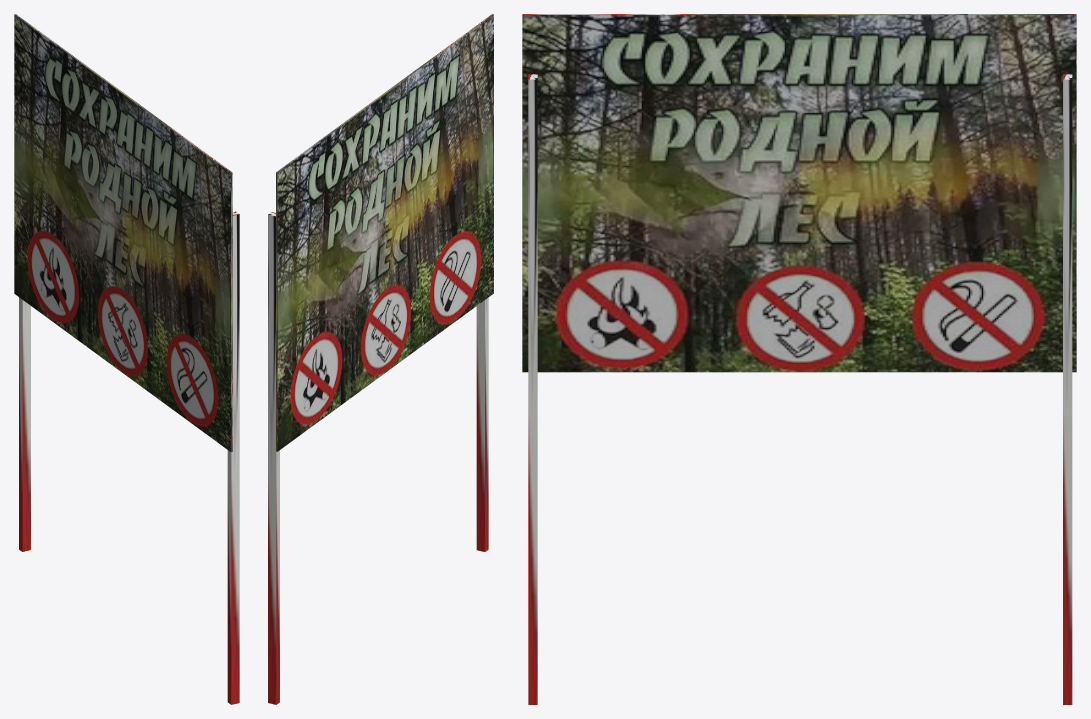
Rendered from r402_beregite_les2.FBX.
3 views of the same model, side by side, from view 1: azimuth 30°, elevation 25°; view 2: azimuth 150°, elevation 25°; view 3: azimuth 270°, elevation 25° (orthographic). The views are drawn at different scales.
Parts seen in each view (by area): view 1: r402_beregite_les2; view 2: r402_beregite_les2; view 3: r402_beregite_les2.
Part boxes in pixels (bbox=[...]): r402_beregite_les2: bbox=[14, 14, 239, 704]; r402_beregite_les2: bbox=[268, 14, 493, 704]; r402_beregite_les2: bbox=[522, 14, 1076, 704].
Size of the model in its own units: 6.74 by 226 by 307.
